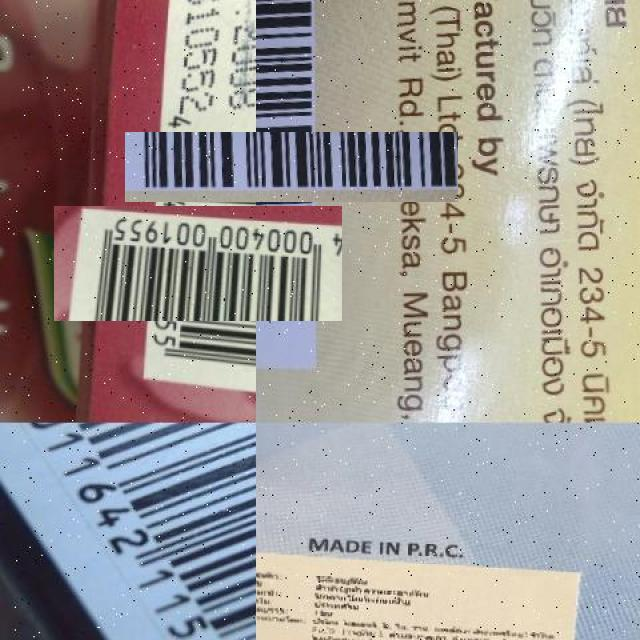Barcode: (0, 423, 256, 640), (191, 66, 393, 268), (98, 162, 299, 365)
